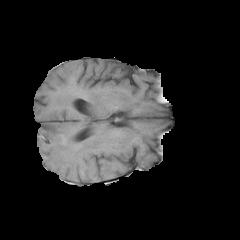glioma: (38, 97, 137, 177)
